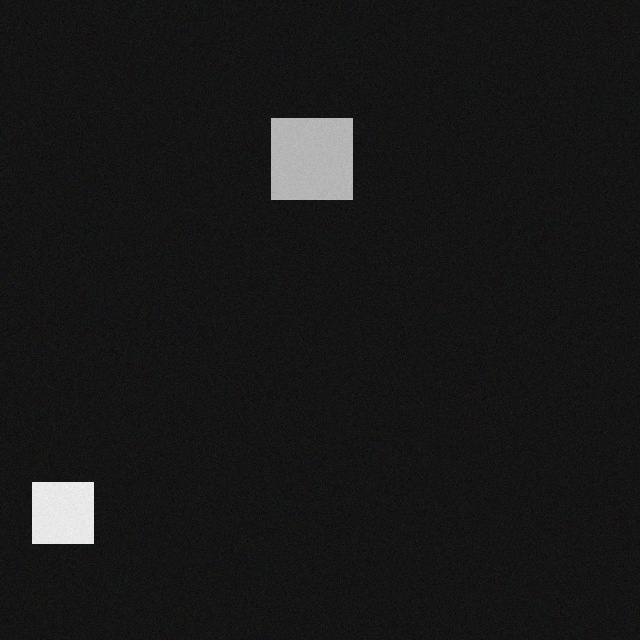square: (282, 122, 363, 203), (43, 486, 104, 547)
